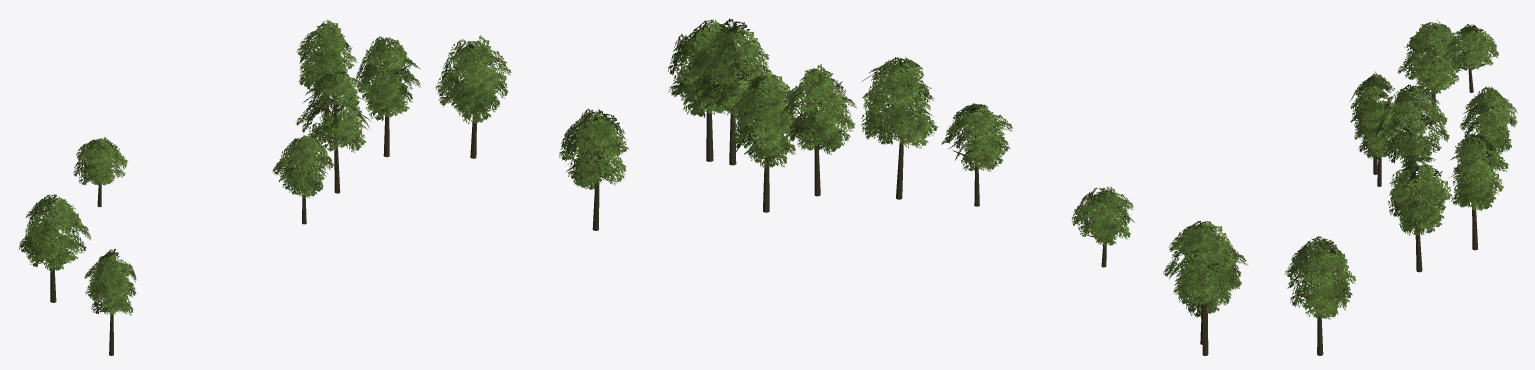
Rendered from TRB8-FOREST-CHUNK-0-0.glb.
3 renders of one model, left to right at view 1: azimuth 30°, elevation 25°; view 2: azimuth 150°, elevation 25°; view 3: azimuth 270°, elevation 25°, orthographic. The views are drawn at different scales.
Visible parts, largest first — view 1: TRB8-FOREST-CHUNK-0-0; view 2: TRB8-FOREST-CHUNK-0-0; view 3: TRB8-FOREST-CHUNK-0-0.
Boxes of the visible parts, left/top/right/bottom form: TRB8-FOREST-CHUNK-0-0: left=19, top=19, right=628, bottom=355; TRB8-FOREST-CHUNK-0-0: left=668, top=18, right=1247, bottom=355; TRB8-FOREST-CHUNK-0-0: left=1285, top=19, right=1517, bottom=355.
Bounding box in the file's own units: 26.64 × 10.4 × 10.38.
2 materials, 1 textured.
